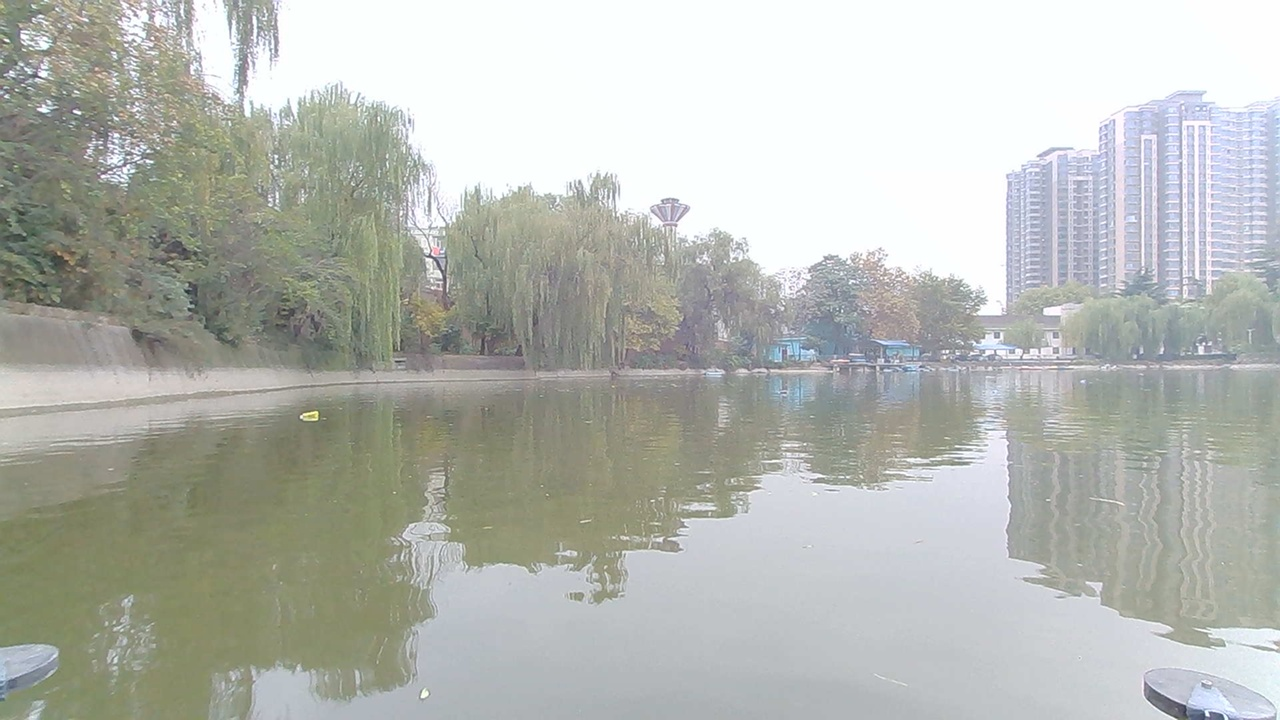bottle: (294, 405, 328, 428), (767, 383, 796, 398)
